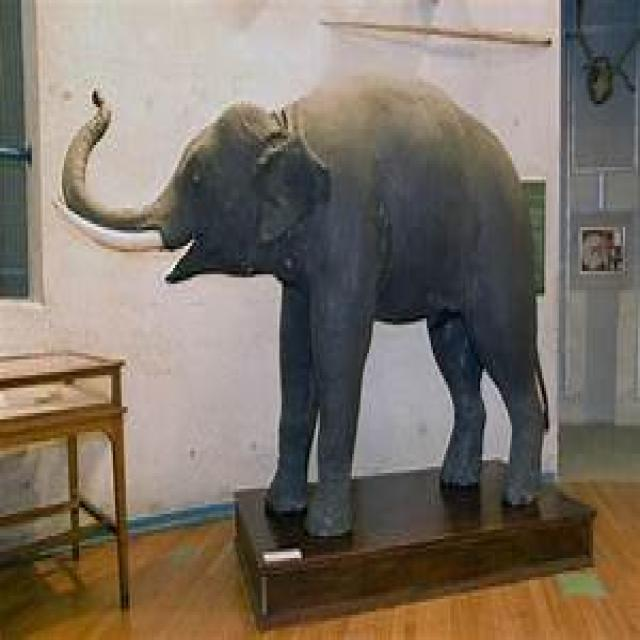elephant: (64, 73, 557, 542)
